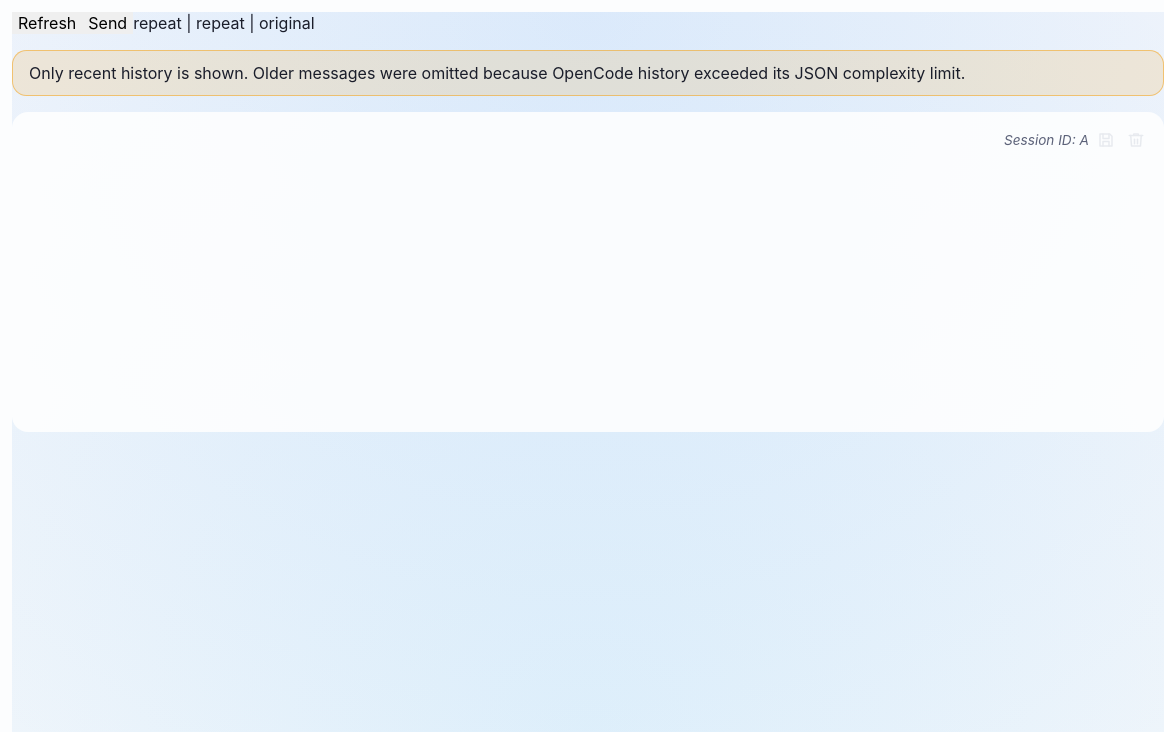
Test case: warns for reduced history and clears warning after full recovery
Check: the text named "Transcript" shows "original", box [133,13,315,33]
Check: the text "Only recent history is shown" shows "JSON complexity limit", box [29,63,965,83]
Step 1. Click the button "Refresh" → (47, 23), box [12,12,82,34]
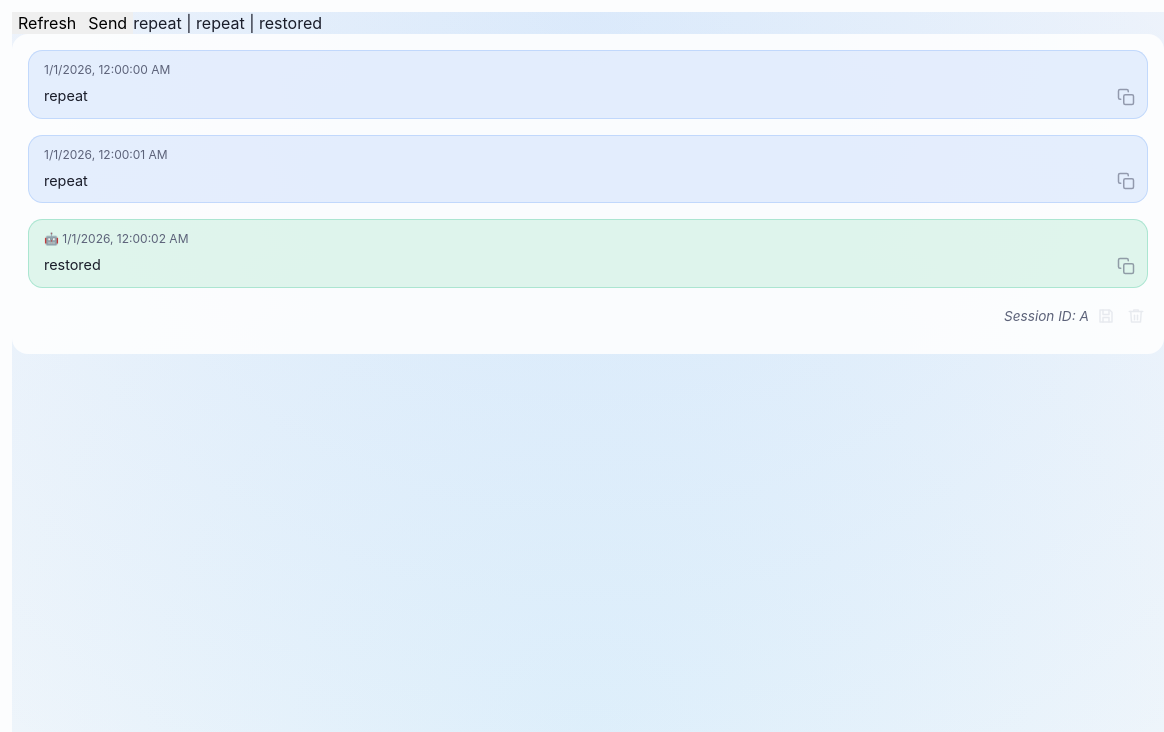
Check: the text "Only recent history is shown" is gone
Check: the text named "Transcript" shows "restored", box [133,13,322,33]
